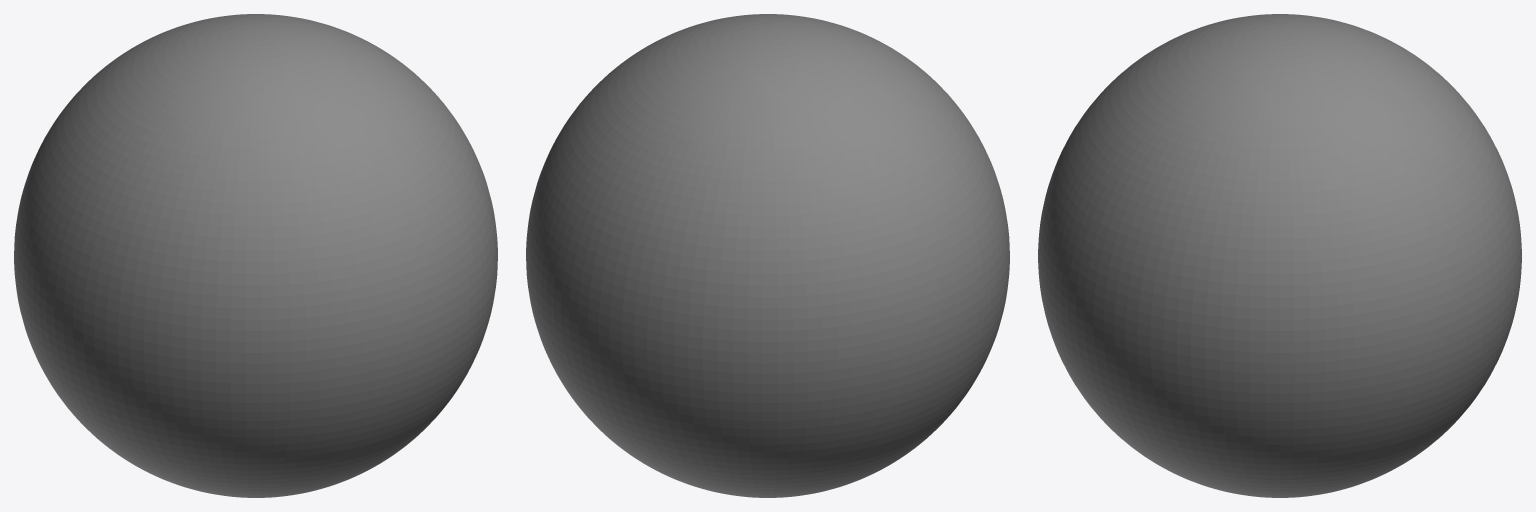
The model's file is Neutral_planet.obj.
The picture shows the model from 3 angles, left to right: view 1: azimuth 30°, elevation 25°; view 2: azimuth 150°, elevation 25°; view 3: azimuth 270°, elevation 25°; orthographic projection.
Parts seen in each view (by area): view 1: Sphere_Sphere.003; view 2: Sphere_Sphere.003; view 3: Sphere_Sphere.003.
Part boxes in pixels (x1=…): Sphere_Sphere.003: x1=14, y1=14, x2=497, y2=497; Sphere_Sphere.003: x1=526, y1=14, x2=1009, y2=497; Sphere_Sphere.003: x1=1038, y1=14, x2=1521, y2=497.
Bounding box in the file's own units: 17.29 × 17.29 × 17.29.
1 material, 1 textured.
